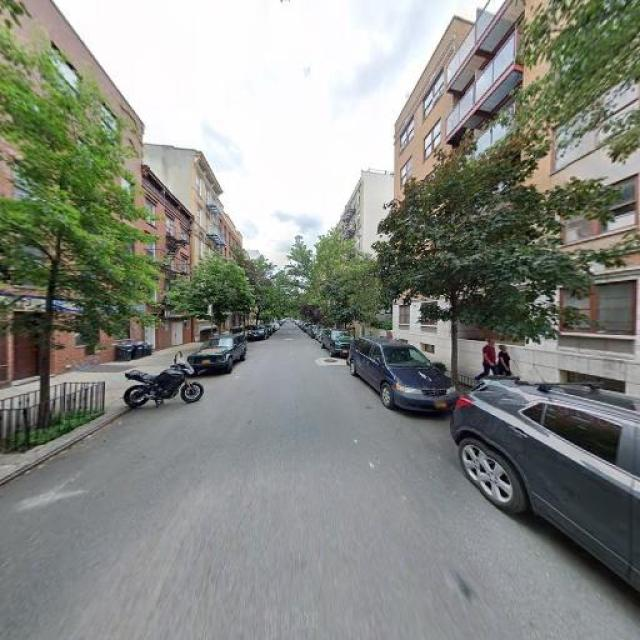Building: (393, 1, 640, 445), (4, 1, 145, 385)
